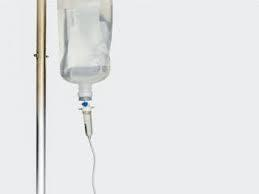Iv_Bottle: (58, 0, 111, 100)
